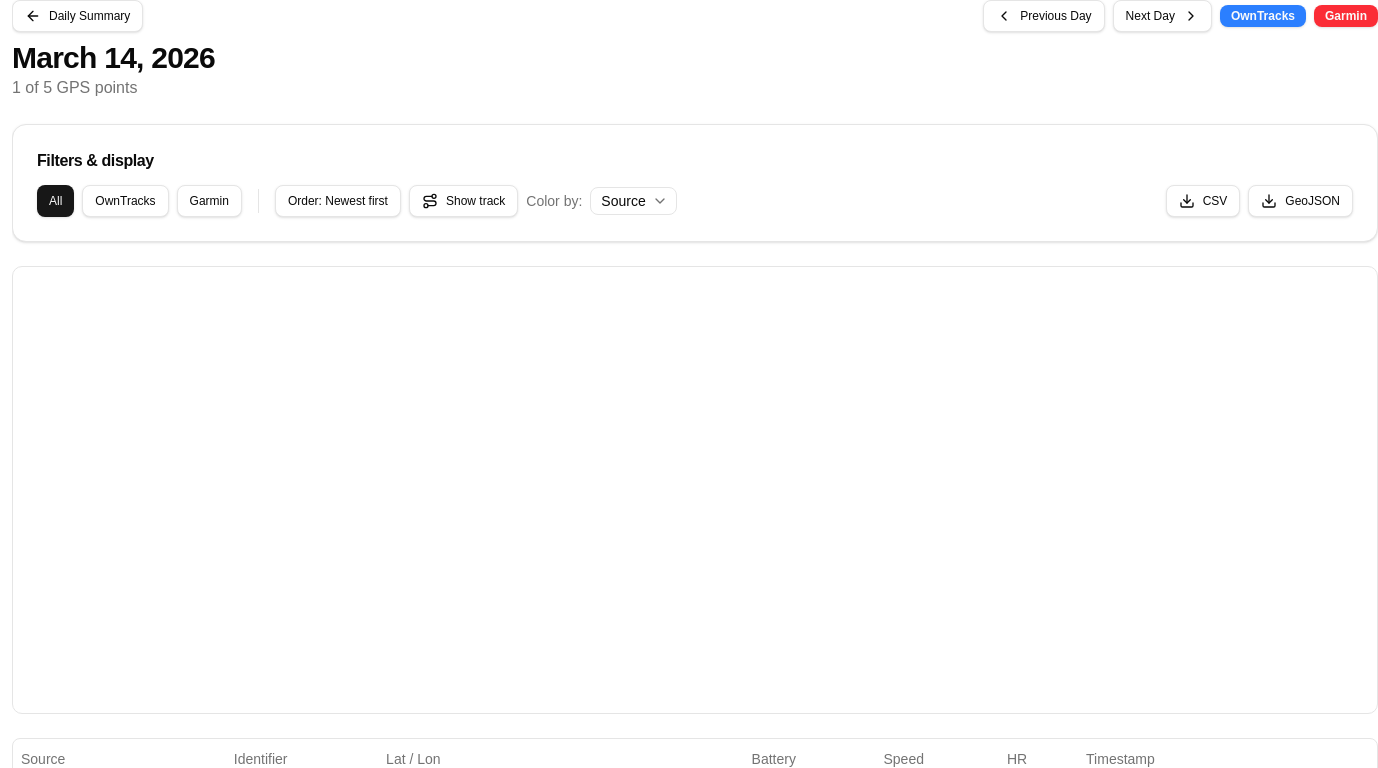
Test: DailySummaryDetailPage › toggles the sort order and resets to page 1
Click the button with aria-label "Sort by time descending".
click(338, 201)  # box [275,185,401,217]
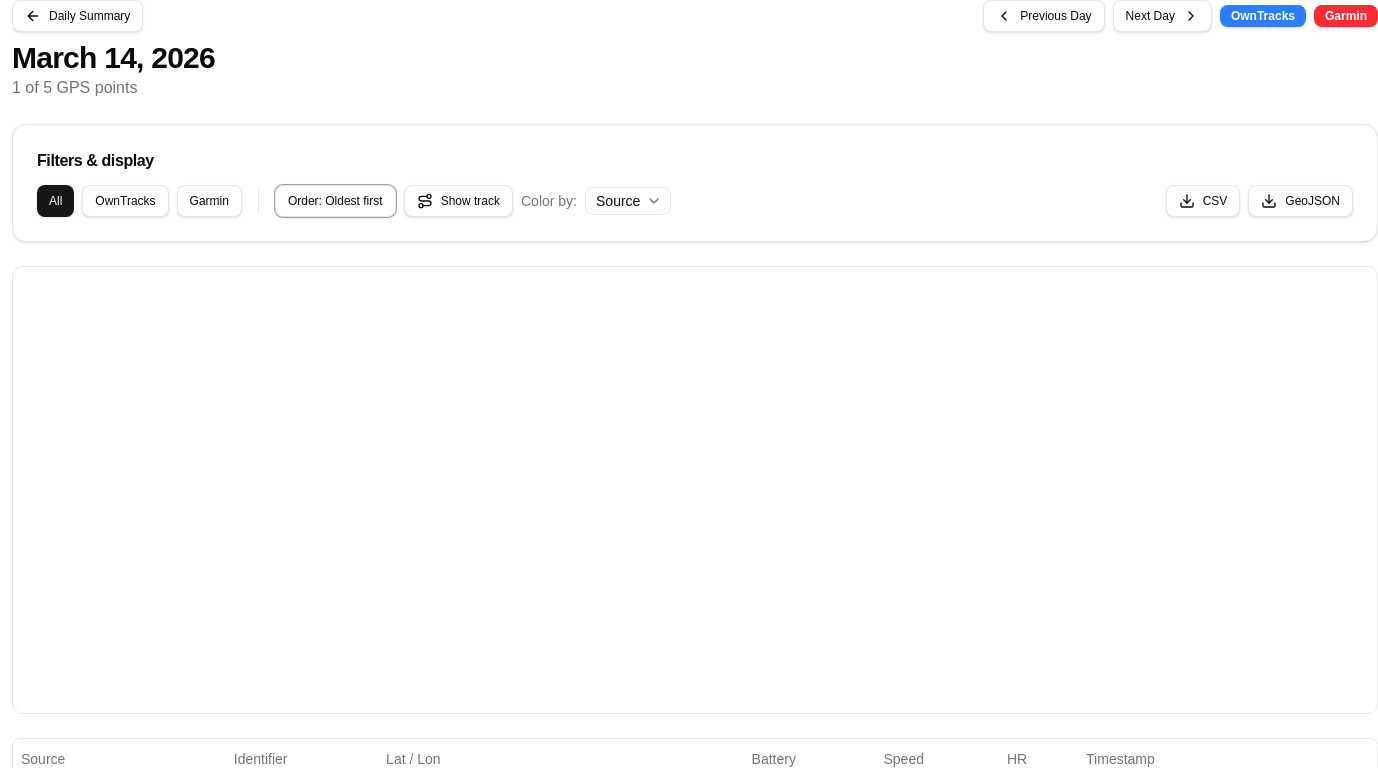
Expected: the button with aria-label "Sort by time ascending" is shown, [275,185,396,217]
